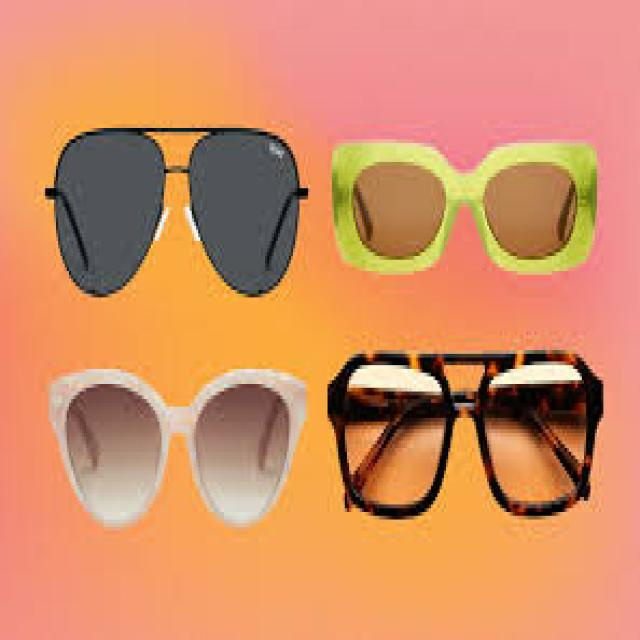sunglasses: (48, 115, 296, 292)
